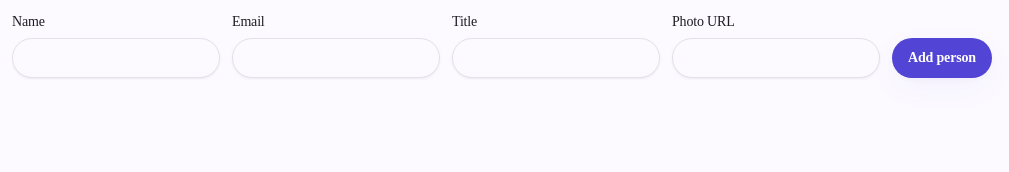
Test: CreatePersonForm › says the connection is down when the request cannot be sent
Type "X" into the field labelled "Name" at (116, 58), box [12,38,220,78]
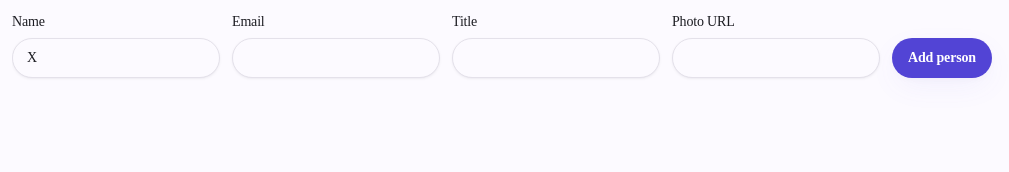
Click the button "Add person" at (942, 58), box [892,38,992,78]
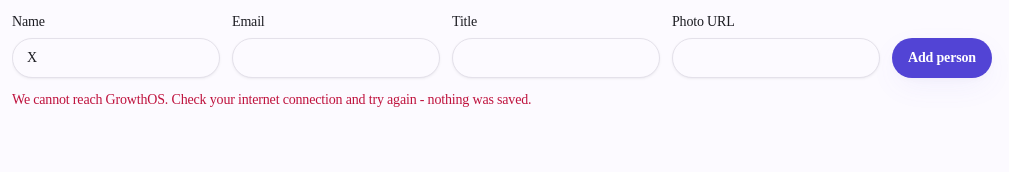
Result: the message shows "We cannot reach GrowthOS. Check your internet connection and try again - nothing was saved." at [12,92,531,107]
